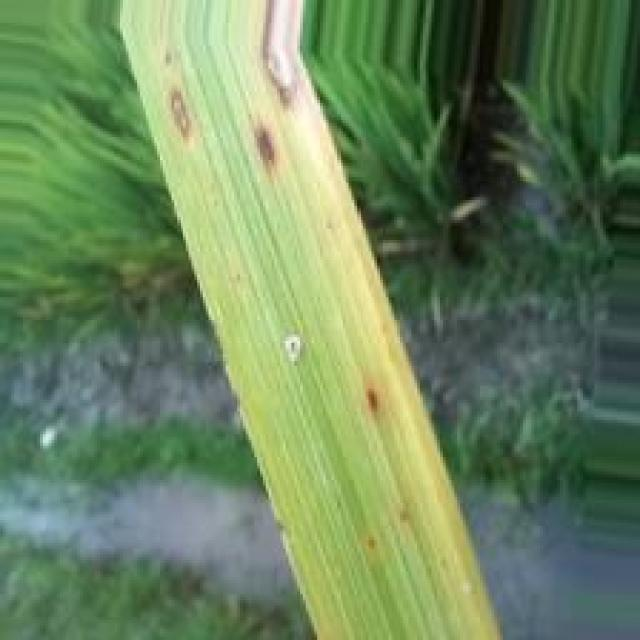Brown_Spot: (263, 0, 307, 119), (165, 87, 200, 151), (249, 123, 285, 178), (361, 384, 387, 421)
